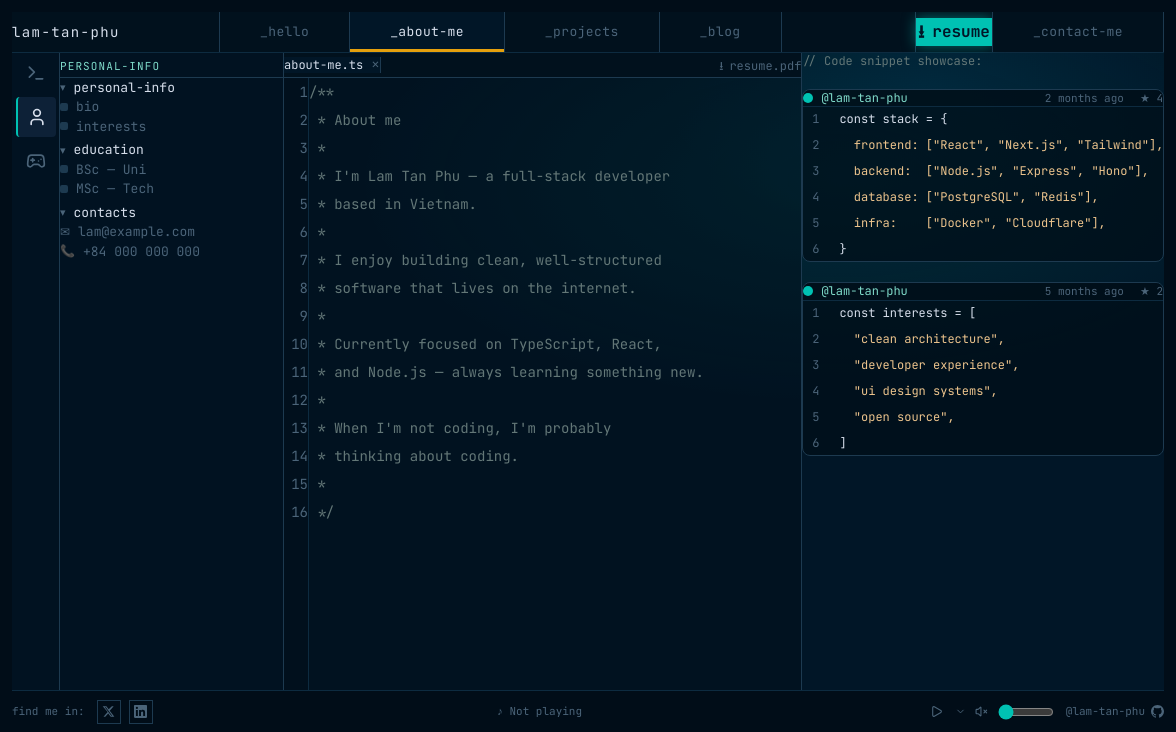
AboutPage › "Hobbies" shows the hobby groups
Click the button titled "Hobbies": (36, 160) [16,140,56,180]
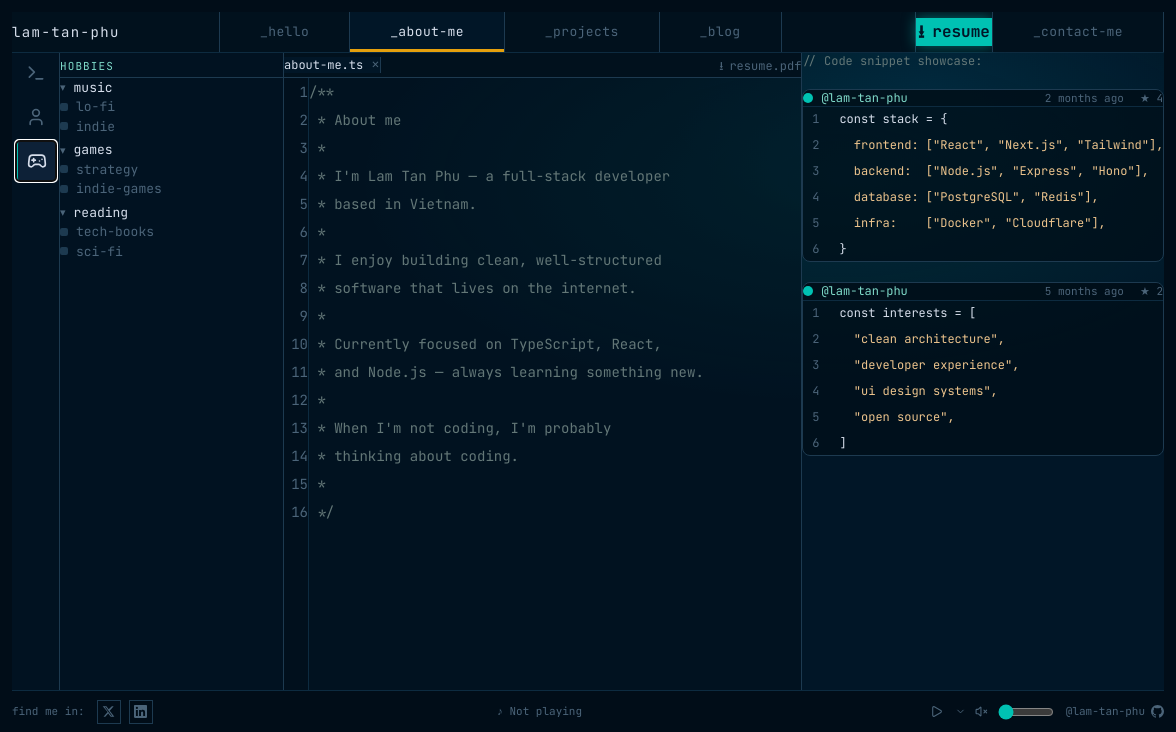
expect the text "hobbies" is shown: met, box [60,58,114,72]
expect the text "music" is shown: met, box [74,78,112,97]
expect the link "lo-fi" is shown: met, box [60,98,115,115]
